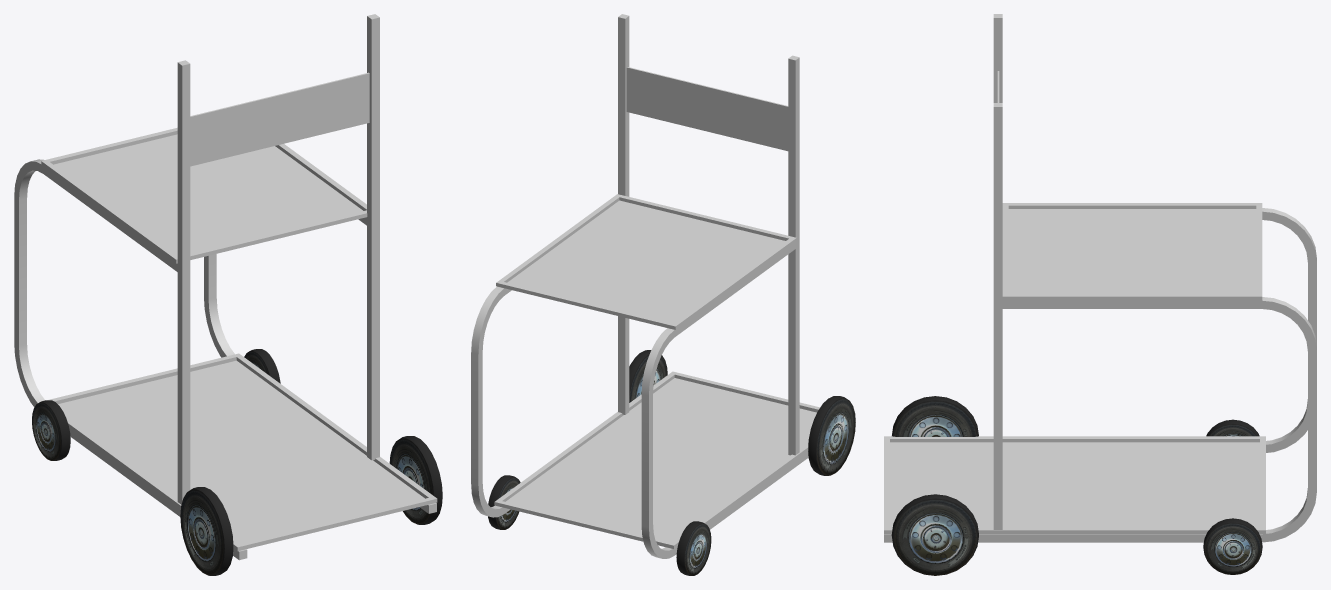
The model's file is MIG_Cart.fbx.
3 views of the same model, side by side, from view 1: azimuth 30°, elevation 25°; view 2: azimuth 150°, elevation 25°; view 3: azimuth 270°, elevation 25° (orthographic). The views are drawn at different scales.
Parts seen in each view (by area): view 1: TIG_Frame_02, TIG_Frame_01, Wheels; view 2: TIG_Frame_02, TIG_Frame_01, Wheels; view 3: TIG_Frame_02, TIG_Frame_01, Wheels.
Part boxes in pixels (box(x1,y1,x2,y2)): TIG_Frame_02: box(39, 127, 437, 550); TIG_Frame_01: box(14, 14, 436, 560); Wheels: box(32, 349, 442, 575); TIG_Frame_02: box(494, 194, 819, 548); TIG_Frame_01: box(471, 14, 808, 558); Wheels: box(488, 350, 855, 575); TIG_Frame_02: box(884, 203, 1265, 533); TIG_Frame_01: box(884, 14, 1316, 542); Wheels: box(891, 396, 1262, 575).
Size of the model in its own units: 66.73 by 140 by 118.
Materials: 1 (1 with a texture image).
